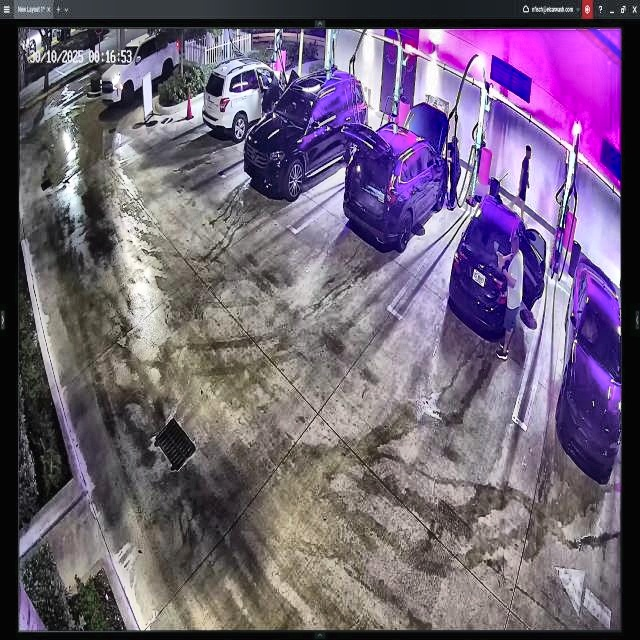Car: (341, 100, 448, 248), (244, 72, 367, 196), (452, 194, 546, 346)
